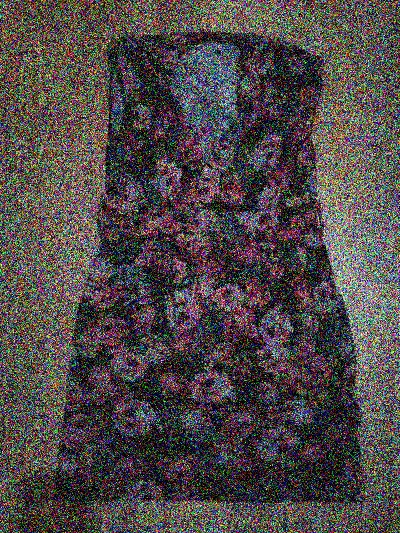Dress: (42, 21, 360, 503)
